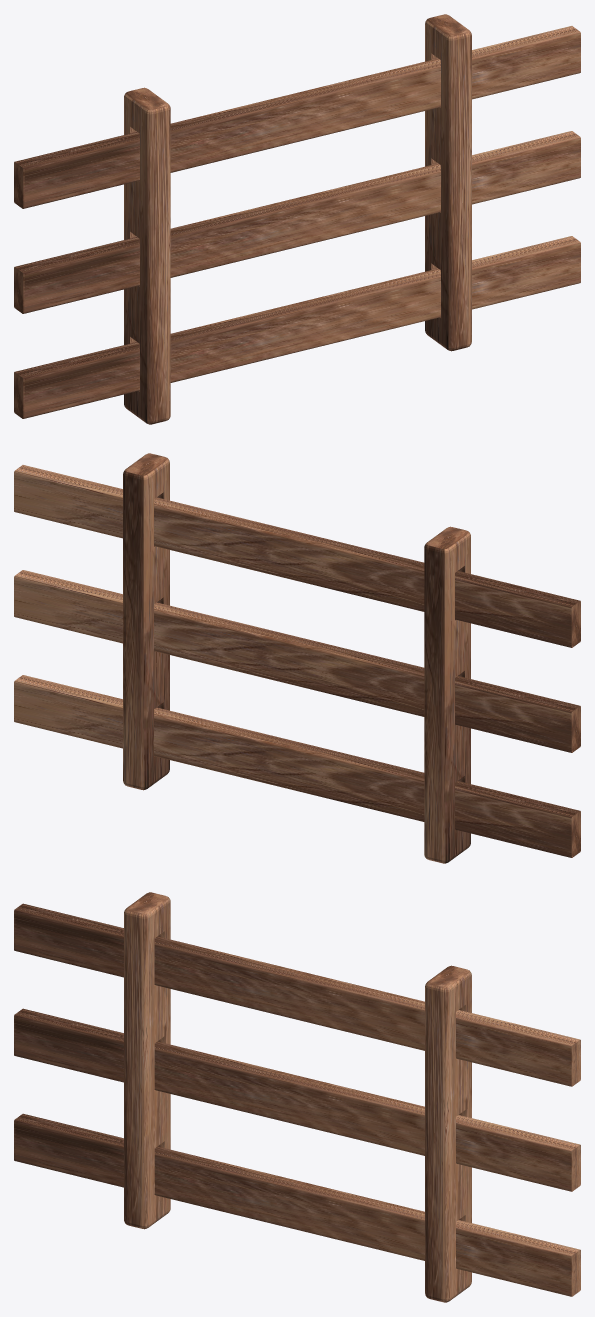
Rendered from fence.dae.
The picture shows the model from 3 angles, top to bottom: view 1: azimuth 30°, elevation 25°; view 2: azimuth 150°, elevation 25°; view 3: azimuth 330°, elevation 25°; orthographic projection.
Parts seen in each view (by area): view 1: Cube.003, Cube.001, Cube.002, Cube.004, Cube; view 2: Cube.003, Cube.001, Cube.002, Cube.004, Cube; view 3: Cube.002, Cube.001, Cube.003, Cube.004, Cube.
Boxes of the visible parts, x1,y1,x2,y2 form: Cube.003: (14, 26, 580, 208); Cube.001: (14, 131, 580, 313); Cube.002: (14, 236, 580, 418); Cube.004: (124, 87, 170, 424); Cube: (425, 14, 471, 351); Cube.003: (14, 465, 580, 647); Cube.001: (14, 570, 580, 752); Cube.002: (14, 675, 580, 857); Cube.004: (424, 526, 470, 863); Cube: (123, 453, 169, 790); Cube.002: (14, 1113, 580, 1296); Cube.001: (14, 1008, 580, 1191); Cube.003: (14, 903, 580, 1086); Cube.004: (124, 892, 170, 1229); Cube: (425, 965, 471, 1302).
Size of the model in its own units: 5.55 by 0.4535 by 3.02.
